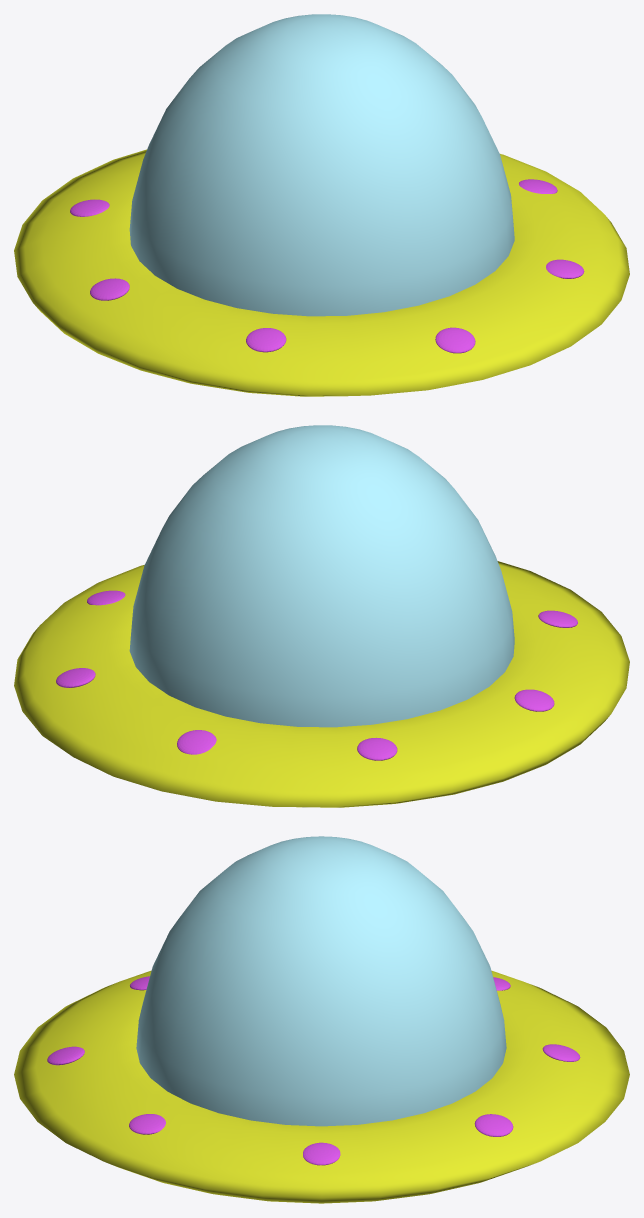
File: vaisseauFinal.gltf
3 views of the same model, one above another, from view 1: azimuth 30°, elevation 25°; view 2: azimuth 150°, elevation 25°; view 3: azimuth 270°, elevation 25° (orthographic). The views are drawn at different scales.
Parts seen in each view (by area): view 1: Sphere.001, Sphere, Sphere.005, Sphere.009, Sphere.002, Sphere.006, Sphere.007; view 2: Sphere.001, Sphere, Sphere.004, Sphere.007, Sphere.002, Sphere.008; view 3: Sphere.001, Sphere, Sphere.008, Sphere.003, Sphere.006, Sphere.005.
Part boxes in pixels (<box>): Sphere.001: <box>129,14,514,316</box>; Sphere: <box>14,149,629,396</box>; Sphere.005: <box>435,327,475,353</box>; Sphere.009: <box>246,328,286,352</box>; Sphere.002: <box>90,278,129,300</box>; Sphere.006: <box>546,259,584,278</box>; Sphere.007: <box>70,199,109,216</box>; Sphere.001: <box>129,425,514,727</box>; Sphere: <box>14,561,629,807</box>; Sphere.004: <box>177,730,216,754</box>; Sphere.007: <box>357,737,397,760</box>; Sphere.002: <box>514,689,554,711</box>; Sphere.008: <box>56,668,95,687</box>; Sphere.001: <box>136,836,506,1126</box>; Sphere: <box>14,970,629,1203</box>; Sphere.008: <box>474,1114,513,1136</box>; Sphere.003: <box>303,1142,340,1165</box>; Sphere.006: <box>129,1114,165,1134</box>; Sphere.005: <box>47,1046,84,1065</box>.
Size of the model in its own units: 2 by 1.07 by 2.11.
Materials: 10 (10 with a texture image).
